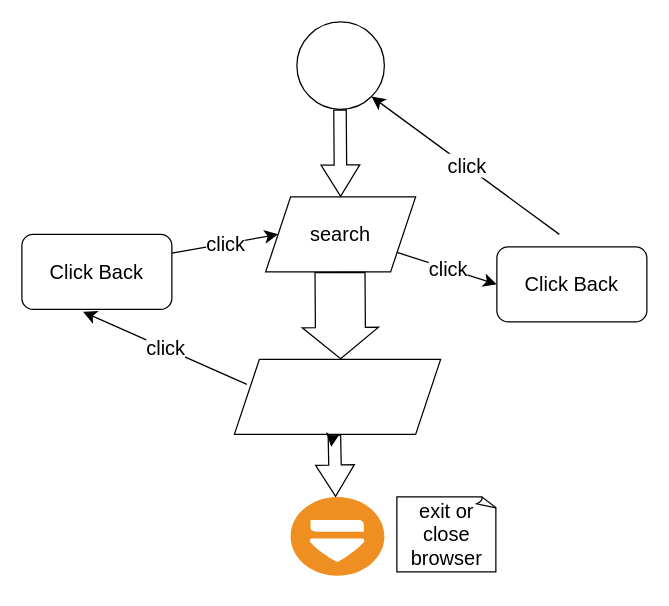
This 669x606 diagram has some shape labels left out. Here are the shapes that lost their labels. From the top down, the centre of each, then its label:
(340,65): Enter
(337,396): Click to expand
